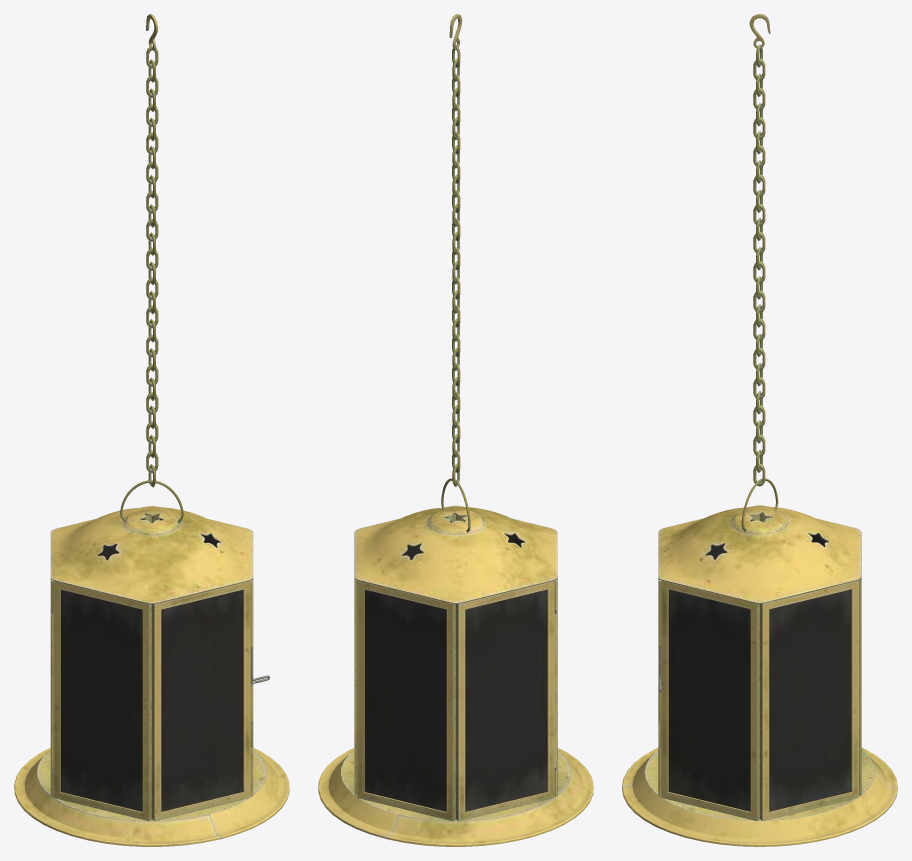
File: brass_diya_lantern.glb
The picture shows the model from 3 angles, left to right: view 1: azimuth 30°, elevation 25°; view 2: azimuth 150°, elevation 25°; view 3: azimuth 270°, elevation 25°; orthographic projection.
Parts seen in each view (by area): view 1: brass_diya_lantern, brass_diya_lantern_chain; view 2: brass_diya_lantern, brass_diya_lantern_chain; view 3: brass_diya_lantern, brass_diya_lantern_chain.
Part boxes in pixels (x1,y1,x2,y2): brass_diya_lantern: (14, 505, 289, 846); brass_diya_lantern_chain: (146, 14, 158, 487); brass_diya_lantern: (318, 505, 593, 846); brass_diya_lantern_chain: (449, 14, 462, 486); brass_diya_lantern: (622, 505, 897, 846); brass_diya_lantern_chain: (749, 14, 770, 486).
Size of the model in its own units: 0.123 by 0.3808 by 0.123.
Materials: 3 (3 with a texture image).
